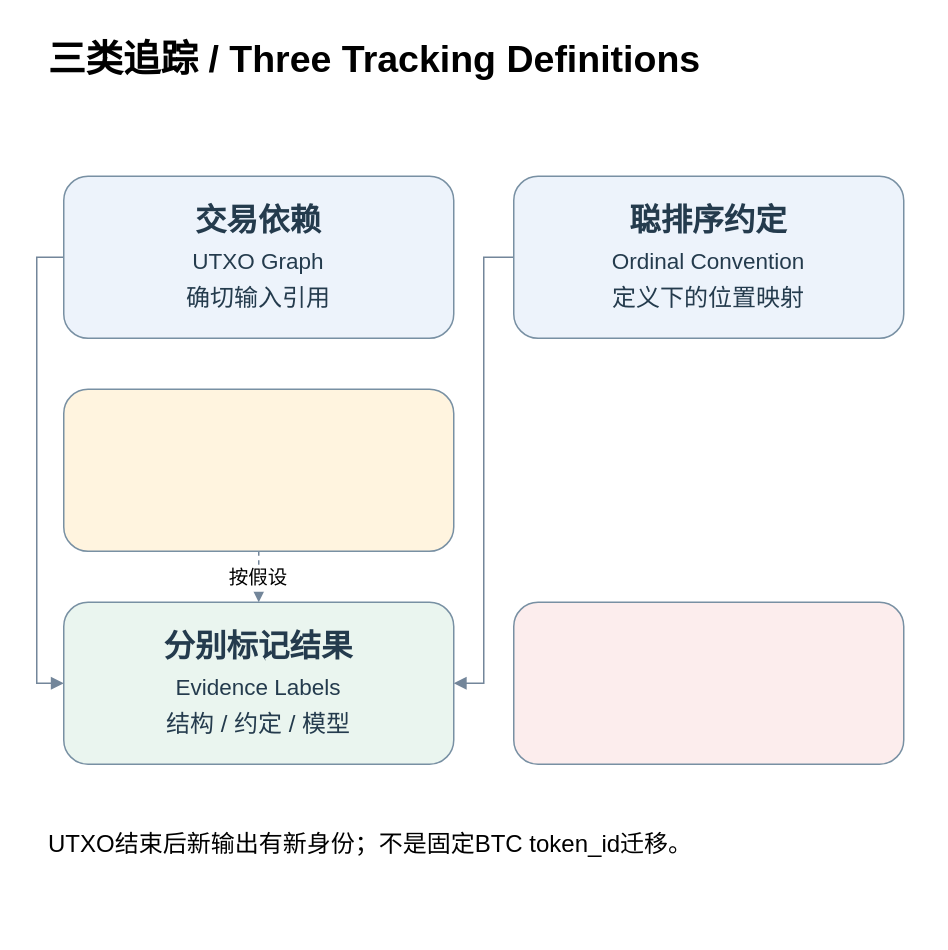
Image size: 948x950. Some labels were removed from this diagram. The centre of each missing label's shape, as x and y in pixels:
"价值分配模型 Research Model 比例、行为、候选" belongs at point 258,469.
"所有权结论 Ownership Claim 仍需外部证据" belongs at point 708,682.
